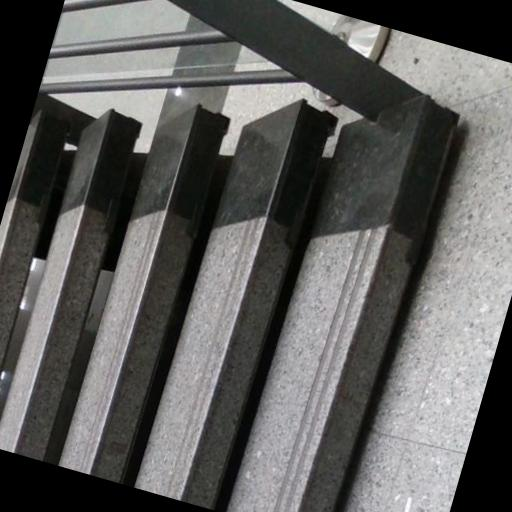stairs: (0, 97, 455, 511), (58, 107, 228, 483), (0, 112, 140, 460), (0, 114, 67, 372)
